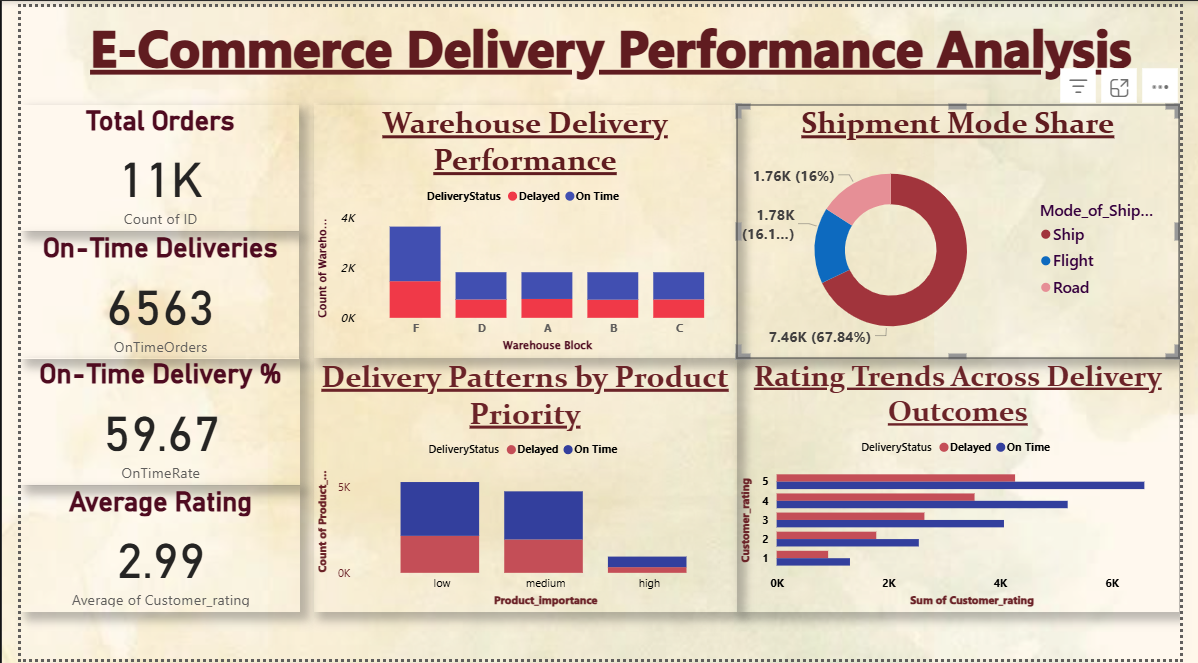

The page's visual inventory and layout, read from the dashboard file:
{"tool":"powerbi","page":{"name":"Page 1","canvas":[1280,720],"ordinal":0},"visuals":[{"type":"textbox","box":[55.2,0,1176.8,90.7],"z":0},{"type":"card","title":"Total Orders","fields":{"Values":["CountNonNull(Train.ID)"]},"box":[0,108.4,307.5,140],"z":1000},{"type":"card","title":"On-Time Deliveries ","fields":{"Values":["Train.OnTimeOrders"]},"box":[0,248.4,307.5,140],"z":2000},{"type":"card","title":"On-Time Delivery %","fields":{"Values":["Train.OnTimeRate"]},"box":[0,387.6,308.1,140.8],"z":3000},{"type":"card","title":"Average Rating","fields":{"Values":["Avg(Train.Customer_rating)"]},"box":[0,528.4,308.1,139.1],"z":4000},{"type":"columnChart","title":"Warehouse Delivery Performance","fields":{"Category":["Train.Warehouse_block"],"Series":["Train.DeliveryStatus"],"Y":["CountNonNull(Train.Warehouse_block)"]},"box":[309.8,107.7,467.1,279.9],"z":5000},{"type":"donutChart","title":"Shipment Mode Share","fields":{"Category":["Train.Mode_of_Shipment"],"Y":["CountNonNull(Train.ID)"]},"box":[780.2,107.7,488.7,279.9],"z":5001},{"type":"columnChart","title":"Delivery Patterns by Product Priority","fields":{"Category":["Train.Product_importance"],"Y":["CountNonNull(Train.Product_importance)"],"Series":["Train.DeliveryStatus"]},"box":[309.8,387.6,467.1,279.9],"z":5002},{"type":"clusteredBarChart","title":"Rating Trends Across Delivery Outcomes","fields":{"Category":["Train.Customer_rating"],"Y":["Sum(Train.Customer_rating)"],"Series":["Train.DeliveryStatus"]},"box":[780.2,387.6,488.7,279.9],"z":5003}]}

Visuals, with their boxes in screenshot pixels (x1, y1, x2, y2), scaled from the page's 1280x720 canvas onto the 1198x663 screenshot:
textbox: crop(52, 0, 1153, 84)
"Total Orders" card: crop(0, 100, 288, 229)
"On-Time Deliveries " card: crop(0, 229, 288, 358)
"On-Time Delivery %" card: crop(0, 357, 288, 487)
"Average Rating" card: crop(0, 487, 288, 615)
"Warehouse Delivery Performance" columnChart: crop(290, 99, 727, 357)
"Shipment Mode Share" donutChart: crop(730, 99, 1188, 357)
"Delivery Patterns by Product Priority" columnChart: crop(290, 357, 727, 615)
"Rating Trends Across Delivery Outcomes" clusteredBarChart: crop(730, 357, 1188, 615)
